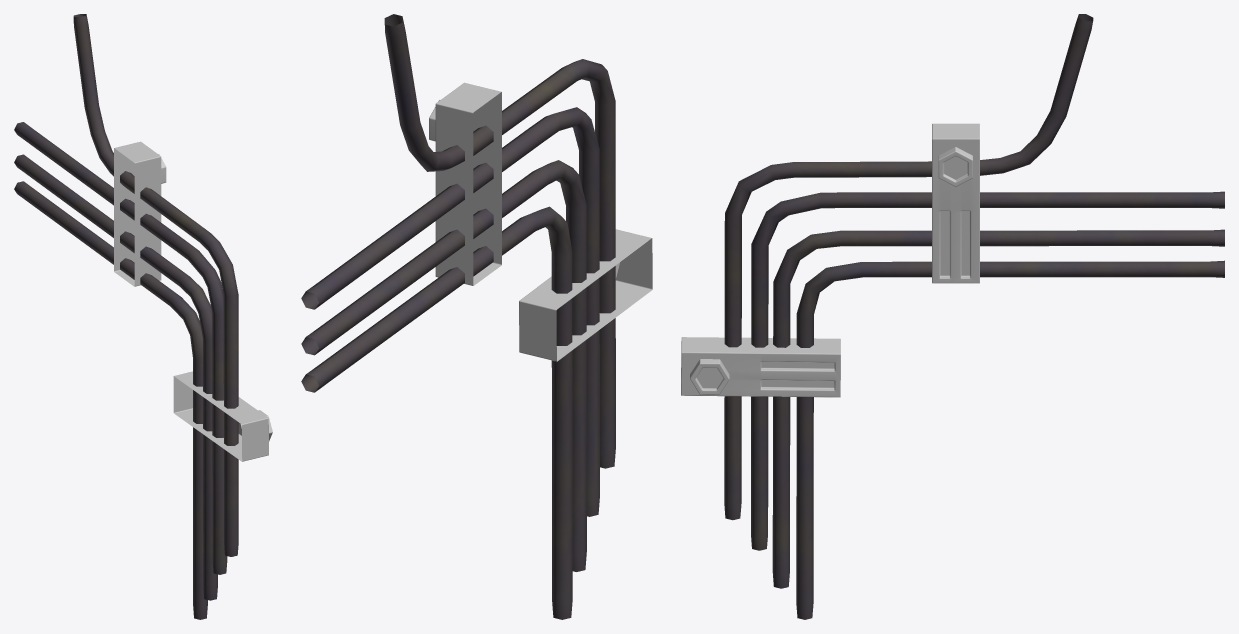
Rendered from Pipes_7.fbx.
3 views of the same model, side by side, from view 1: azimuth 30°, elevation 25°; view 2: azimuth 150°, elevation 25°; view 3: azimuth 270°, elevation 25° (orthographic). The views are drawn at different scales.
Visible parts, largest first — view 1: Pipes_7; view 2: Pipes_7; view 3: Pipes_7.
Part boxes in pixels (left/top/right/bottom): Pipes_7: left=14, top=14, right=272, bottom=619; Pipes_7: left=301, top=14, right=652, bottom=619; Pipes_7: left=681, top=14, right=1224, bottom=619.
Bounding box in the file's own units: 12 × 170 × 139.
